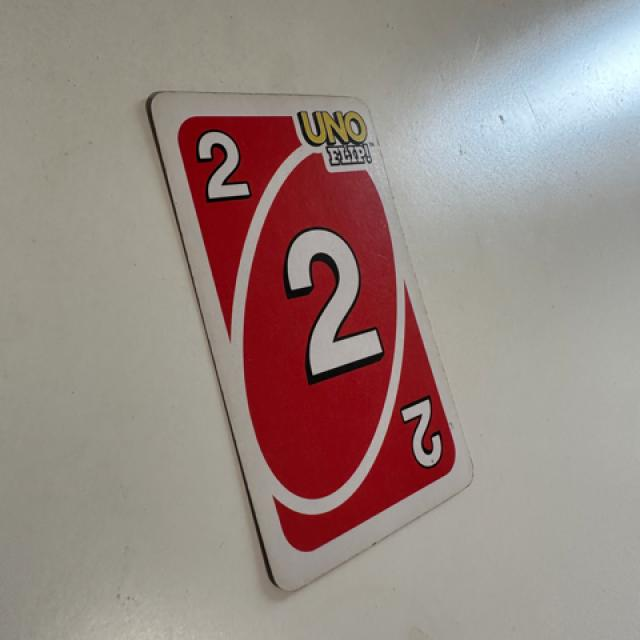lred-2: (184, 120, 271, 211)
